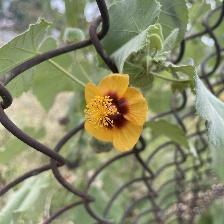indian mallow: (84, 73, 152, 156)
